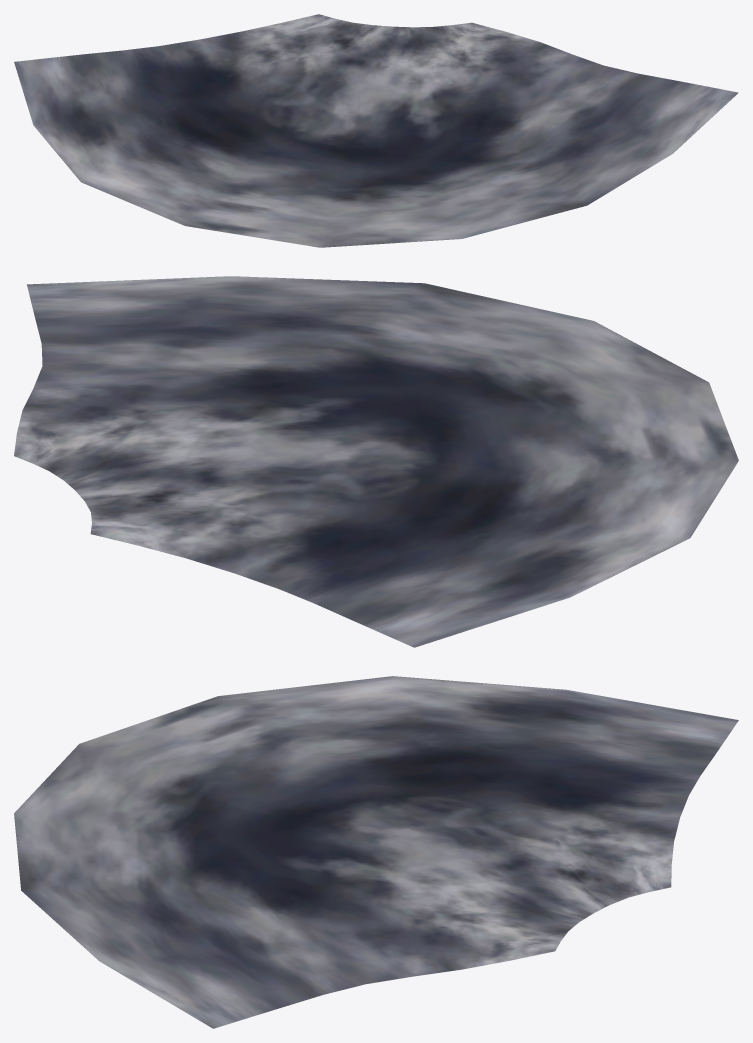
File: CB_NEWPLAYSURFACE_CB_WATERFALLS04.fbx
3 renders of one model, top to bottom at view 1: azimuth 30°, elevation 25°; view 2: azimuth 150°, elevation 25°; view 3: azimuth 270°, elevation 25°, orthographic. The views are drawn at different scales.
Visible parts, largest first — view 1: CB_NEWPLAYSURFACE_CB_WATERFALLS04; view 2: CB_NEWPLAYSURFACE_CB_WATERFALLS04; view 3: CB_NEWPLAYSURFACE_CB_WATERFALLS04.
Boxes of the visible parts, x1,y1,x2,y2 form: CB_NEWPLAYSURFACE_CB_WATERFALLS04: [14, 14, 738, 247]; CB_NEWPLAYSURFACE_CB_WATERFALLS04: [14, 276, 738, 647]; CB_NEWPLAYSURFACE_CB_WATERFALLS04: [14, 676, 738, 1028].
Bounding box in the file's own units: 167379 × 1594 × 145348.
1 material, 1 textured.
